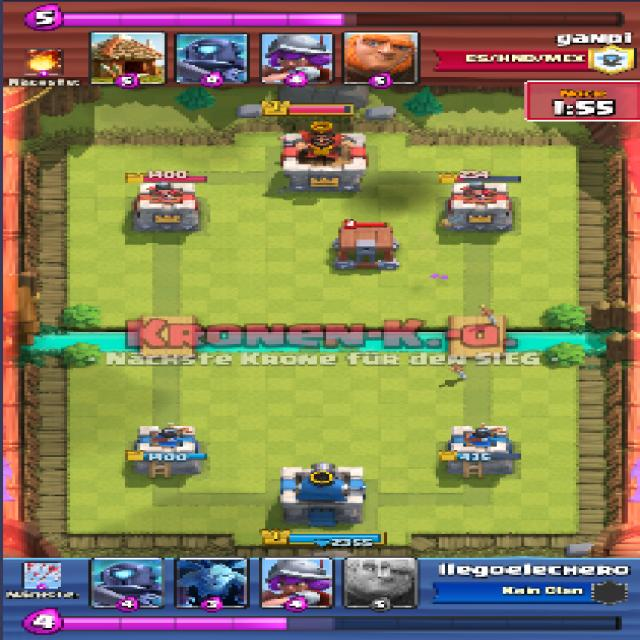Player-GoblinCage: (329, 224, 405, 271)
